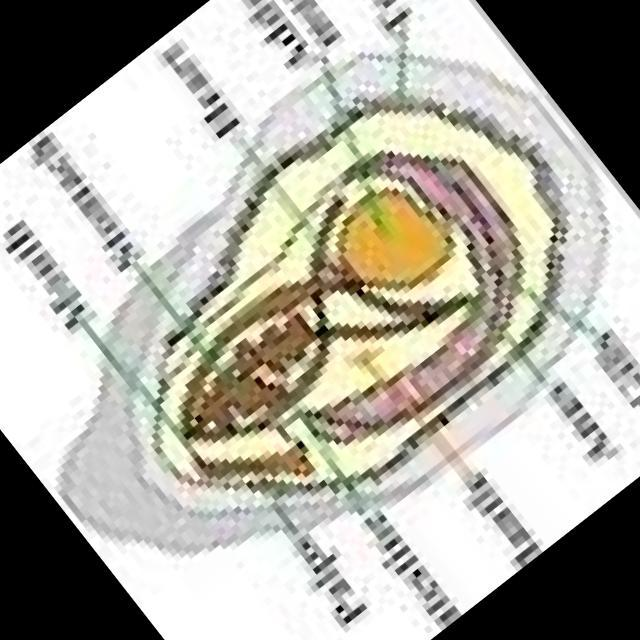Oyster- Indeterminate: (62, 54, 611, 556)
